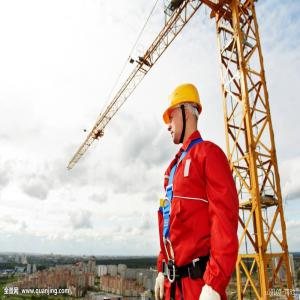yellow: (164, 85, 204, 148)
